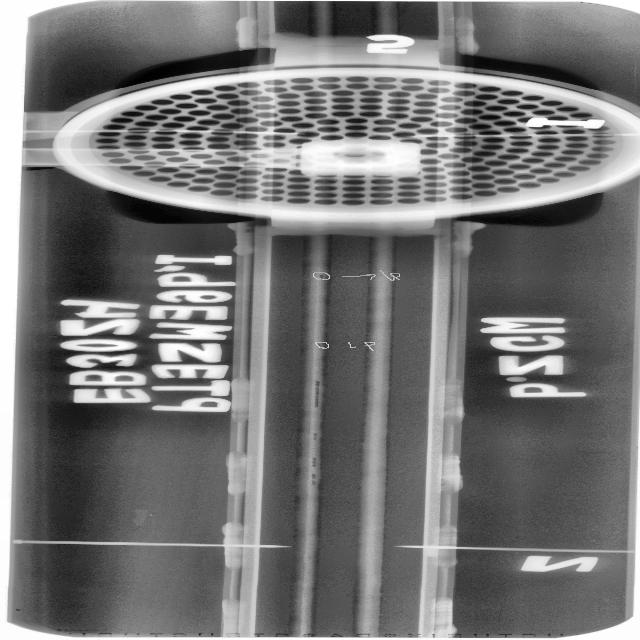linear pore: (315, 381, 318, 408), (312, 433, 316, 442), (312, 458, 316, 467), (310, 474, 316, 480), (312, 480, 315, 486)
porosity: (319, 343, 326, 348), (321, 274, 326, 279), (306, 556, 314, 558), (306, 558, 313, 560)
